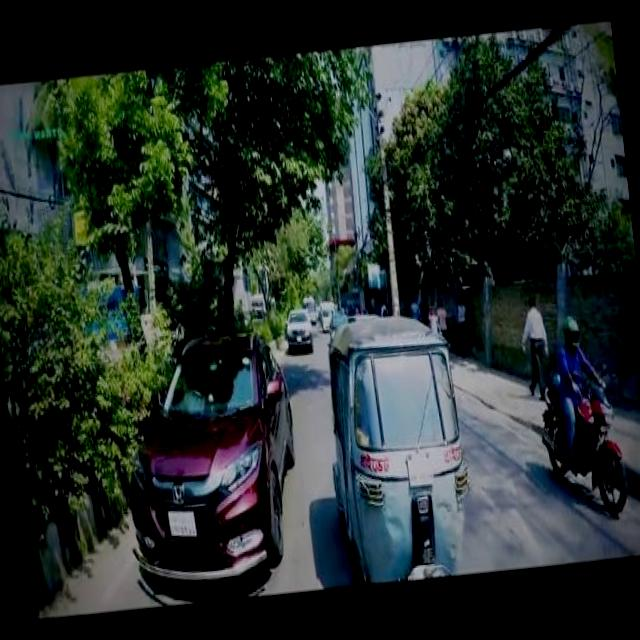car: (108, 323, 306, 586), (284, 306, 312, 348)
motorcycle: (316, 308, 476, 580), (534, 368, 628, 518)
truck: (316, 298, 334, 324)
